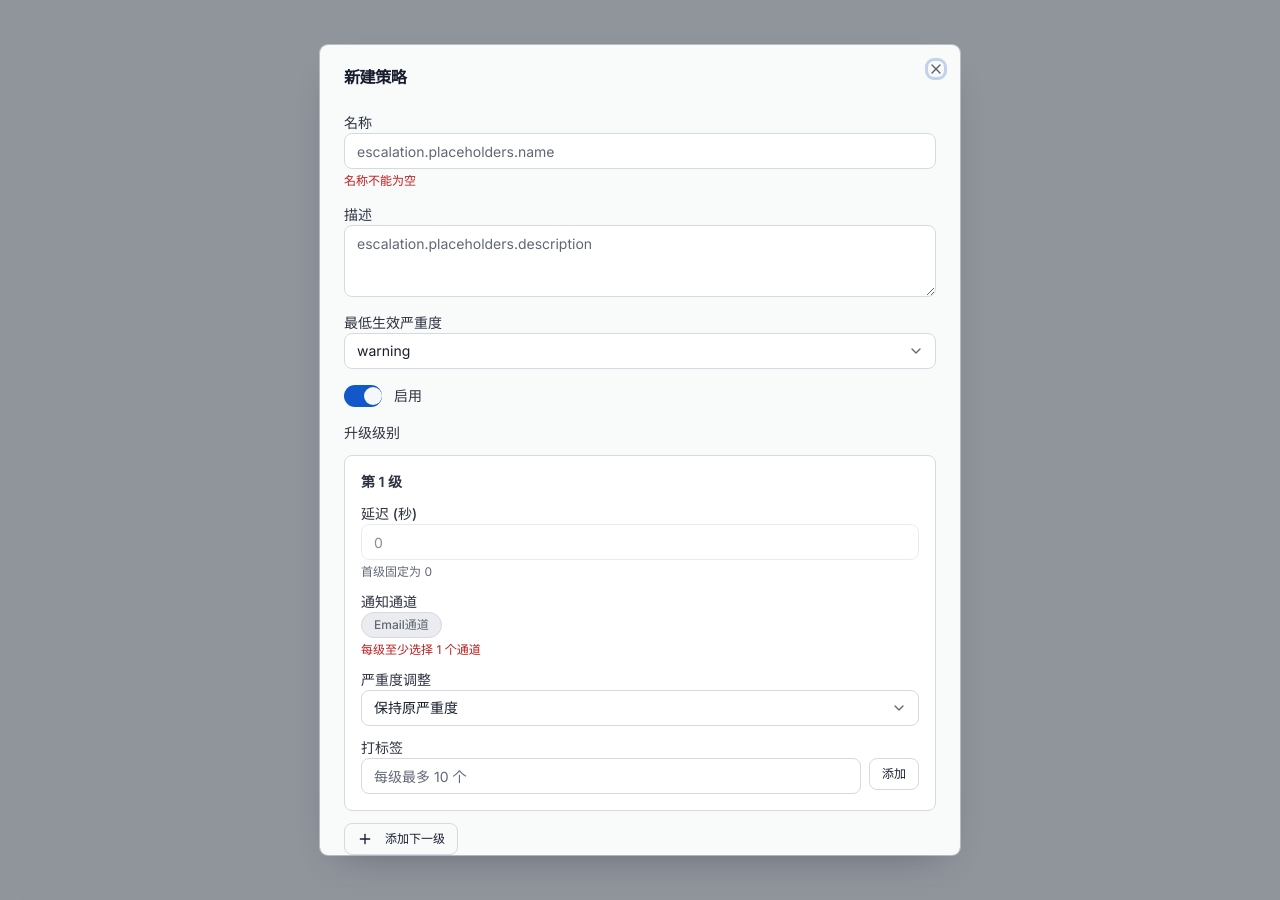
Test: EscalationPolicyEditor › handles 409 name conflict on save without blocking draft preview
Click the button "Email通道". click: (401, 625)
box: [361,612,442,638]
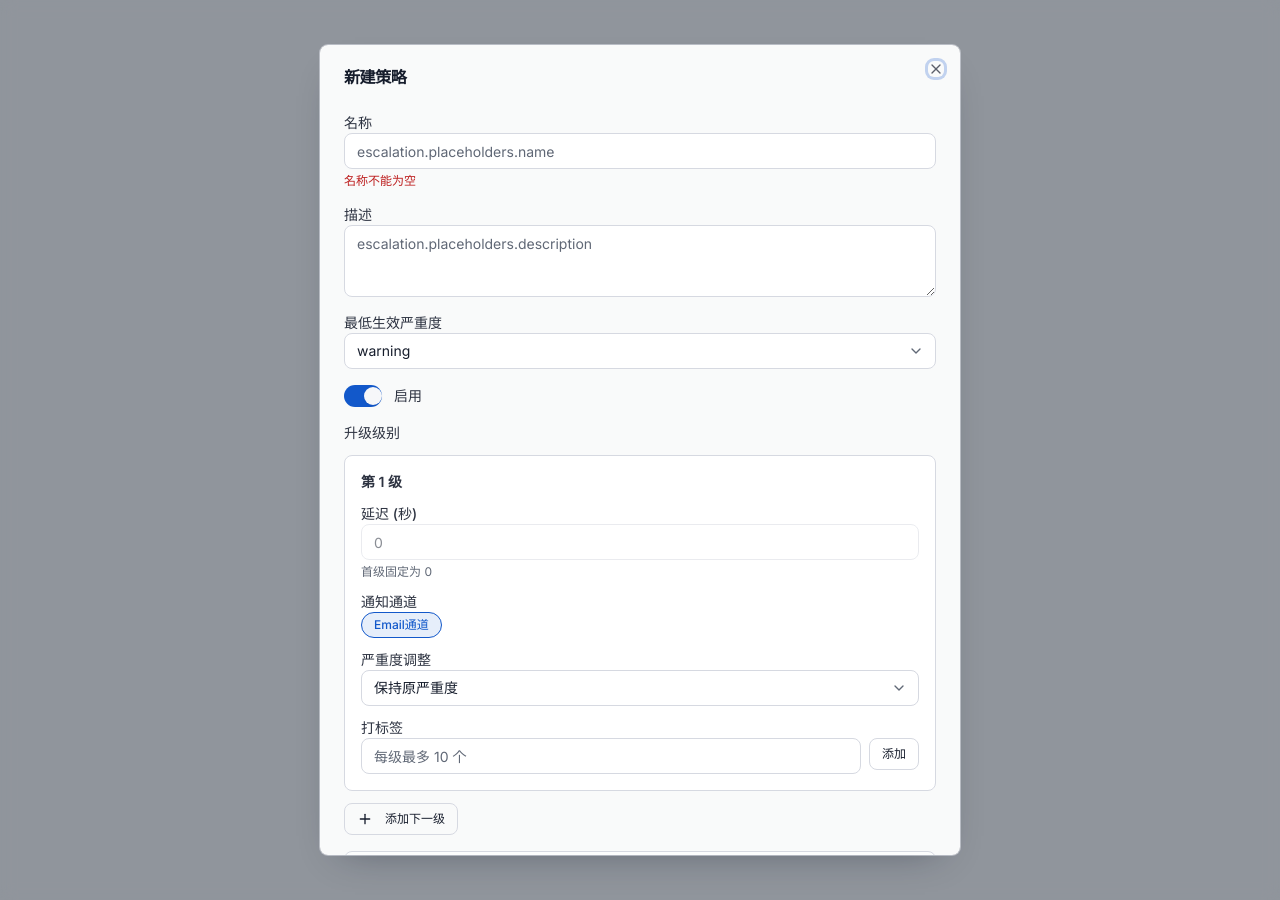
Type "同名策略" into the field labelled "名称". click: (640, 151)
box: [344,133,936,169]
(page scrolled)
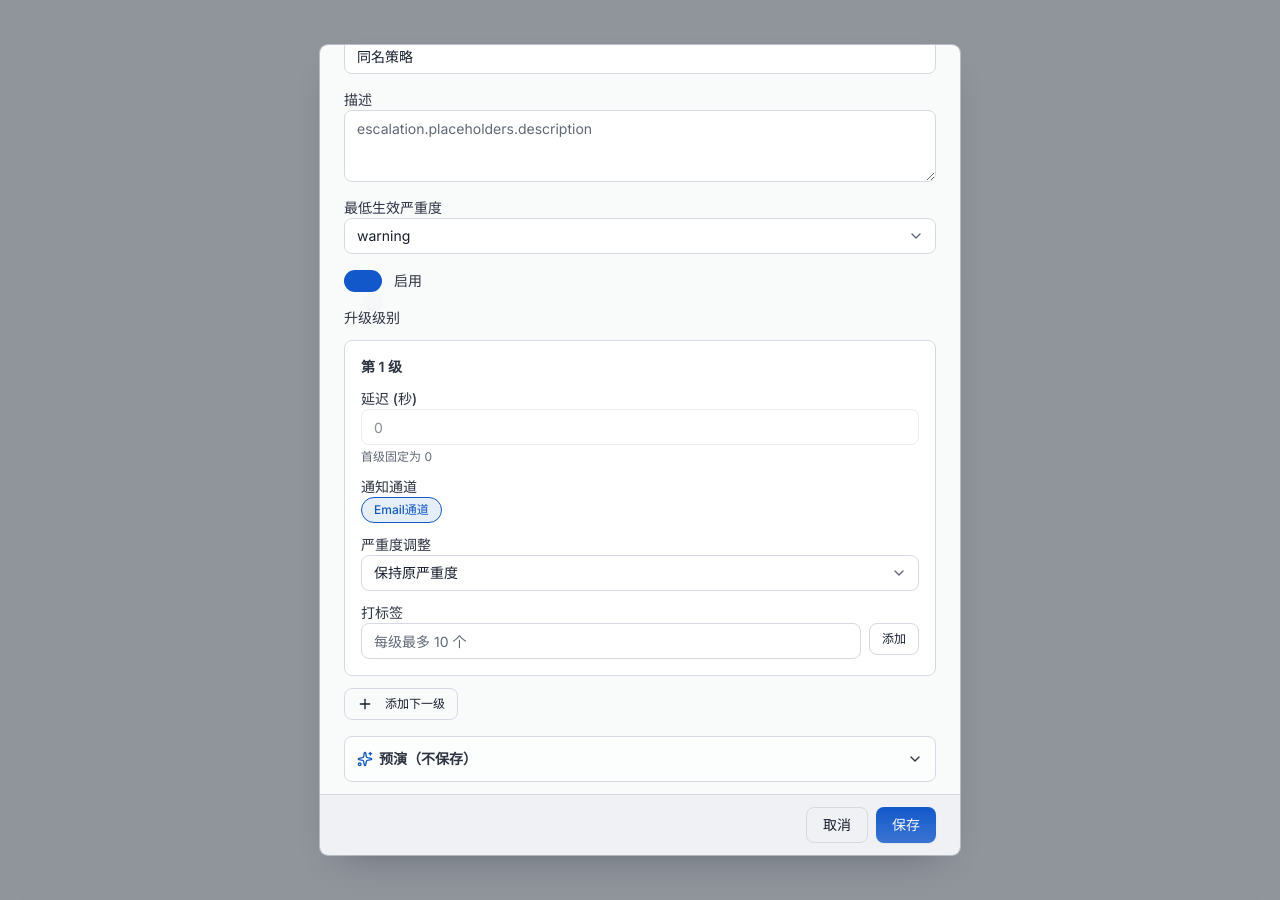
Expected: the button "保存" is enabled
Click the button "保存". click: (906, 825)
box: [876,807,936,843]
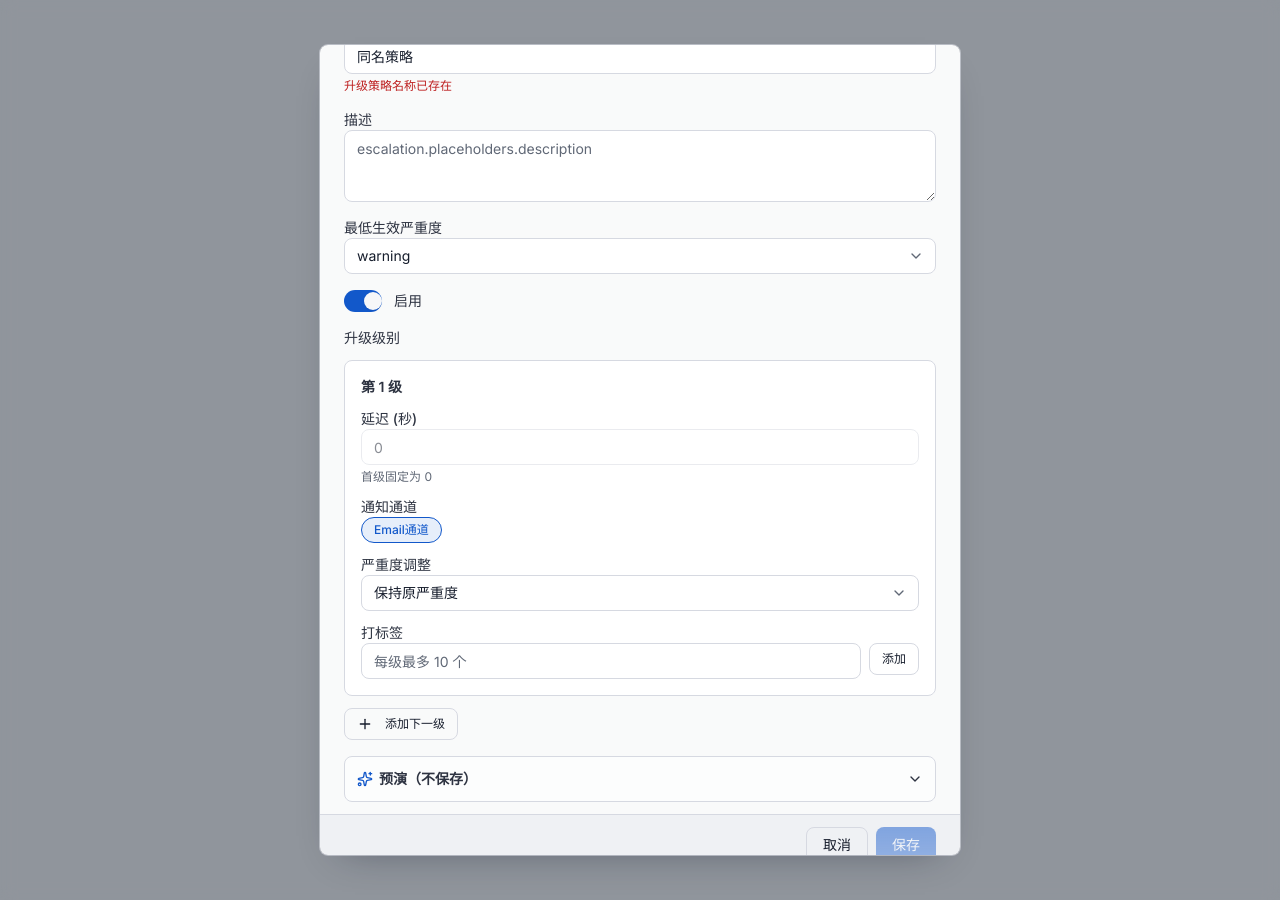
Expected: the text "预演（不保存）" is shown, [357,769,477,789]
Expected: the text "升级策略名称已存在" is shown, [344,78,452,93]
Expected: the button "保存" is disabled, [876,827,936,855]
